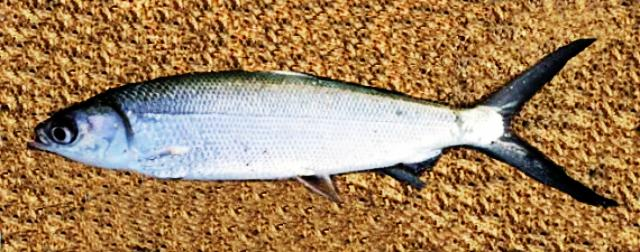Healthy Fish: (28, 39, 614, 204)
